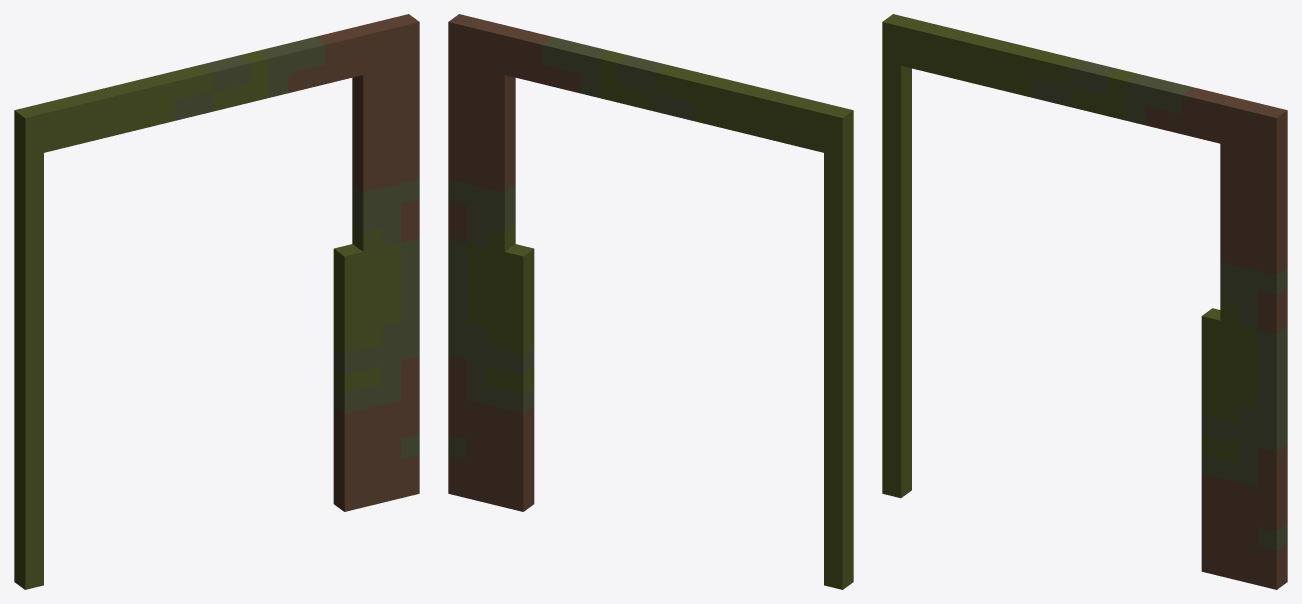
File: abandoned_army_truck_near_side.glb
3 renders of one model, left to right at view 1: azimuth 30°, elevation 25°; view 2: azimuth 150°, elevation 25°; view 3: azimuth 330°, elevation 25°, orthographic.
Visible parts, largest first — view 1: body:compound; view 2: body:compound; view 3: body:compound.
Boxes of the visible parts, x1,y1,x2,y2 form: body:compound: (14, 14, 419, 589); body:compound: (448, 14, 853, 589); body:compound: (882, 14, 1287, 589).
Bounding box in the file's own units: 1.31 × 1.5 × 0.0625.
